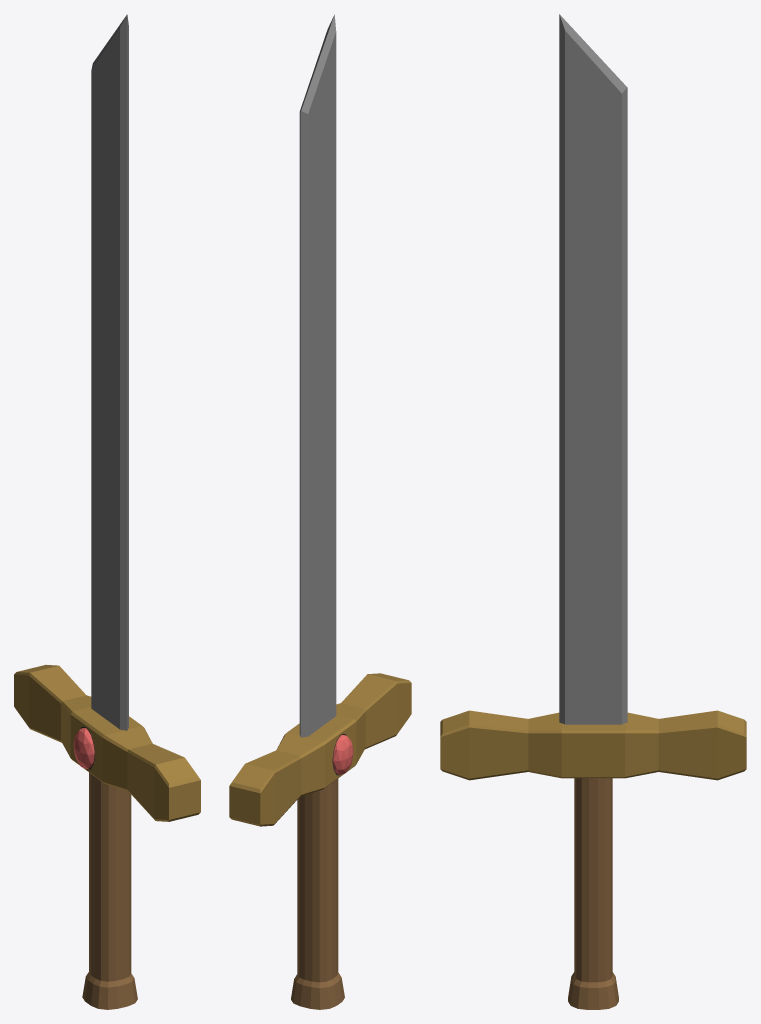
File: Sword.glb
3 renders of one model, left to right at view 1: azimuth 30°, elevation 25°; view 2: azimuth 150°, elevation 25°; view 3: azimuth 270°, elevation 25°, orthographic. The views are drawn at different scales.
Visible parts, largest first — view 1: Cube; view 2: Cube; view 3: Cube.
Boxes of the visible parts, <box> form: Cube: <box>14,14,200,1009</box>; Cube: <box>229,14,411,1009</box>; Cube: <box>440,14,746,1009</box>.
Size of the model in its own units: 0.0693 by 1.2 by 0.3381.
